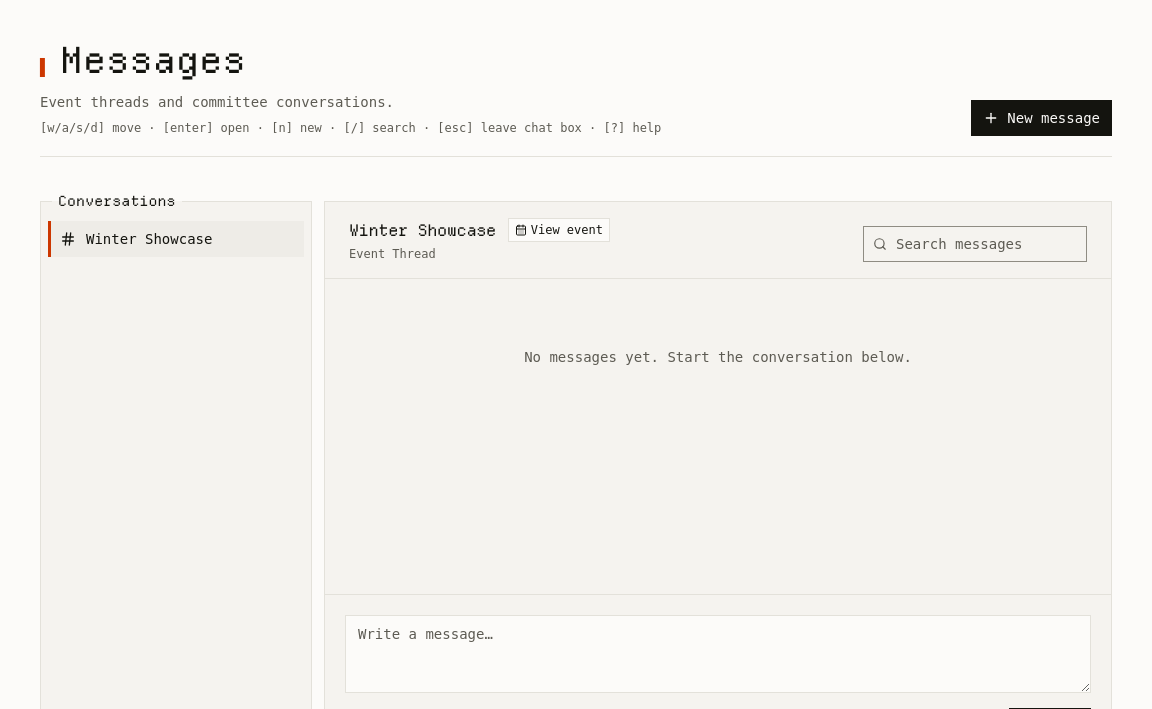
Scenario: MessagesPage › sends on Enter, and not a second copy while the first is in flight
This screenshot has width=1152, height=709.
Type "Ready for doors." into the text box named "message winter showcase" at x=718, y=654, box 345,615 -> 1091,693
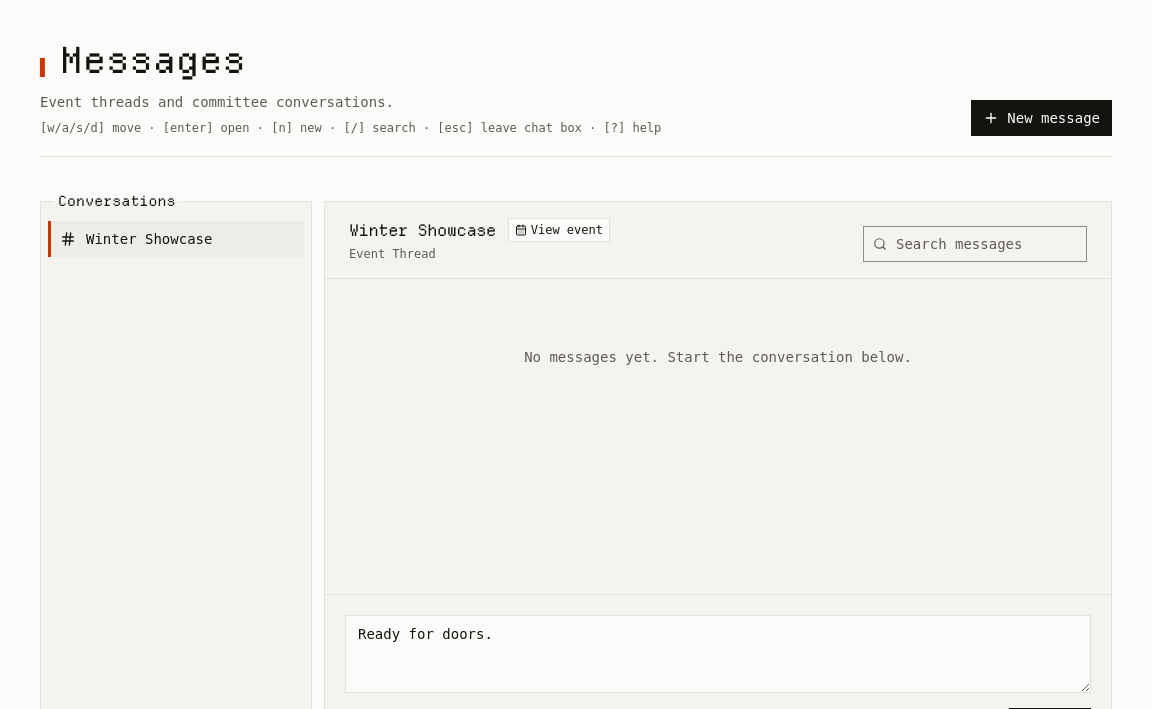
Press Enter in the text box named "message winter showcase", box 345,615 -> 1091,693
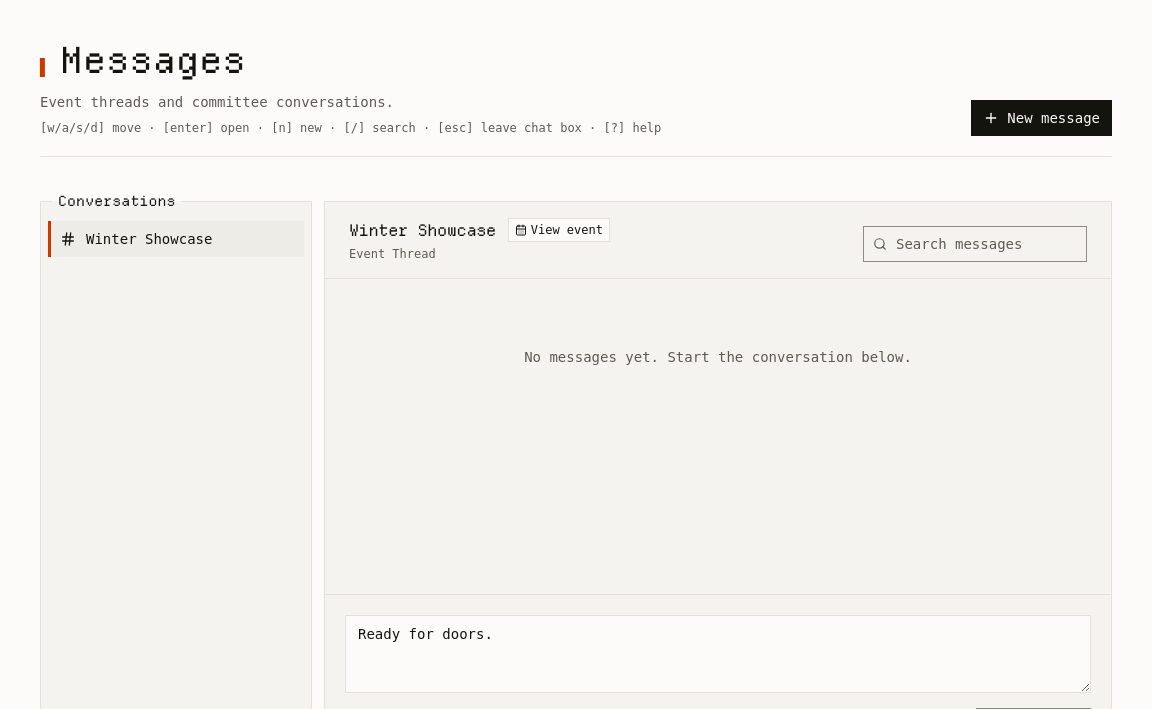
Note: The Send button is disabled by now, but Enter does not go through it.
Press Enter in the text box named "message winter showcase", box 345,615 -> 1091,693
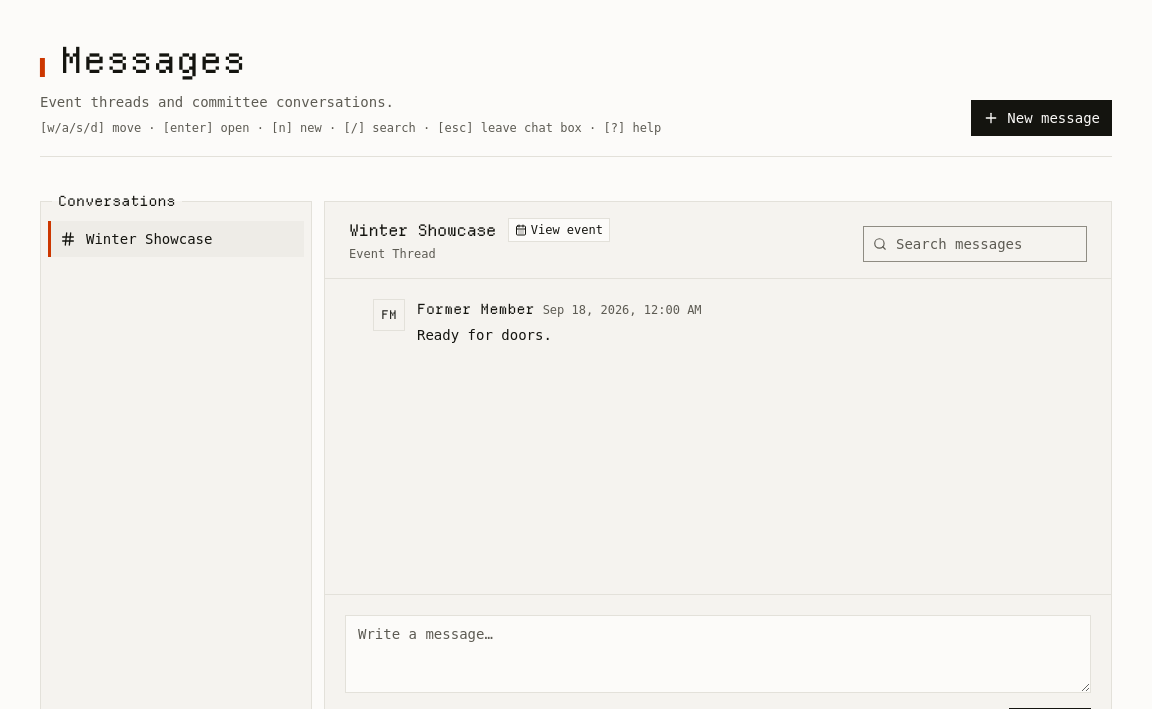
Now the text "Ready for doors." is shown, box 417,327 -> 552,343
Now the text box named "message winter showcase" is empty, box 345,615 -> 1091,693
